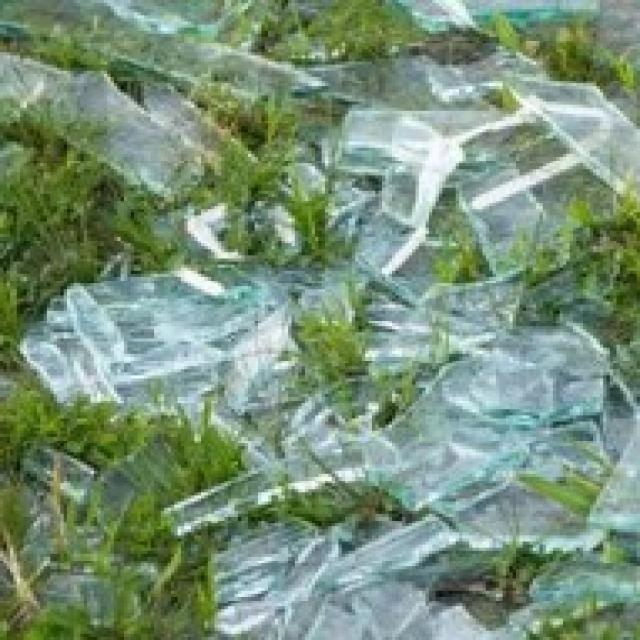electronic: (387, 287, 626, 541), (31, 260, 286, 402)
